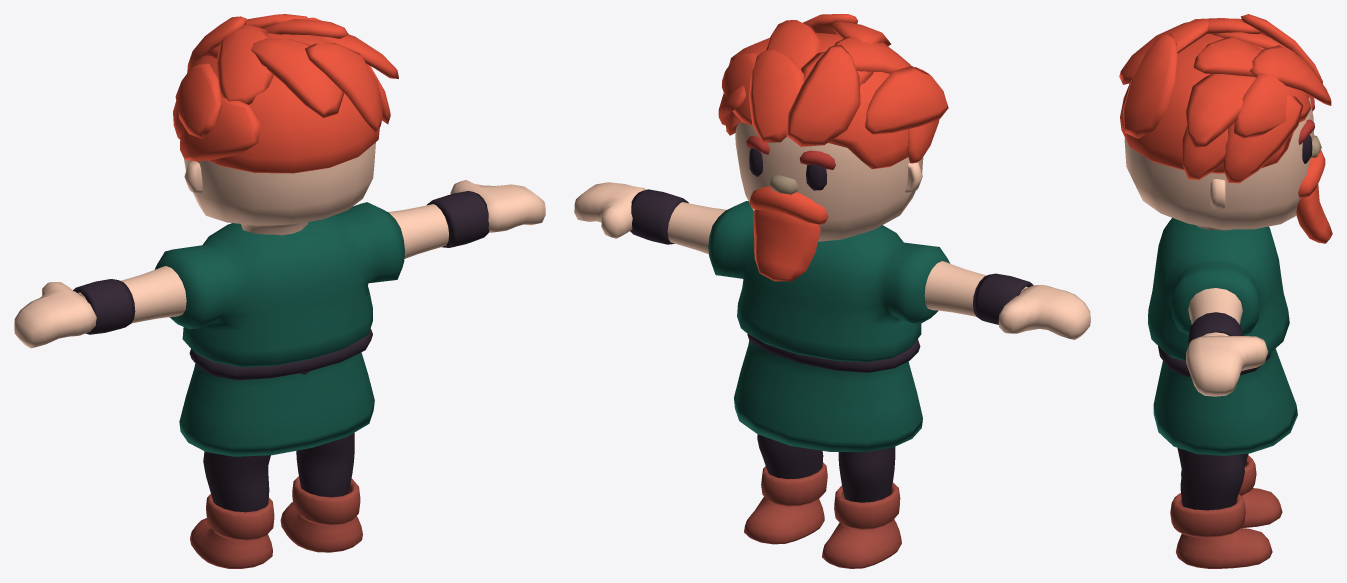
The model's file is man_10.fbx.
The picture shows the model from 3 angles, left to right: view 1: azimuth 30°, elevation 25°; view 2: azimuth 150°, elevation 25°; view 3: azimuth 270°, elevation 25°; orthographic projection. The views are drawn at different scales.
Visible parts, largest first — view 1: Cube.027; view 2: Cube.027; view 3: Cube.027.
Boxes of the visible parts, x1,y1,x2,y2 form: Cube.027: [14, 14, 545, 568]; Cube.027: [574, 14, 1090, 568]; Cube.027: [1119, 14, 1332, 568].
Bounding box in the file's own units: 476 × 454 × 173.
